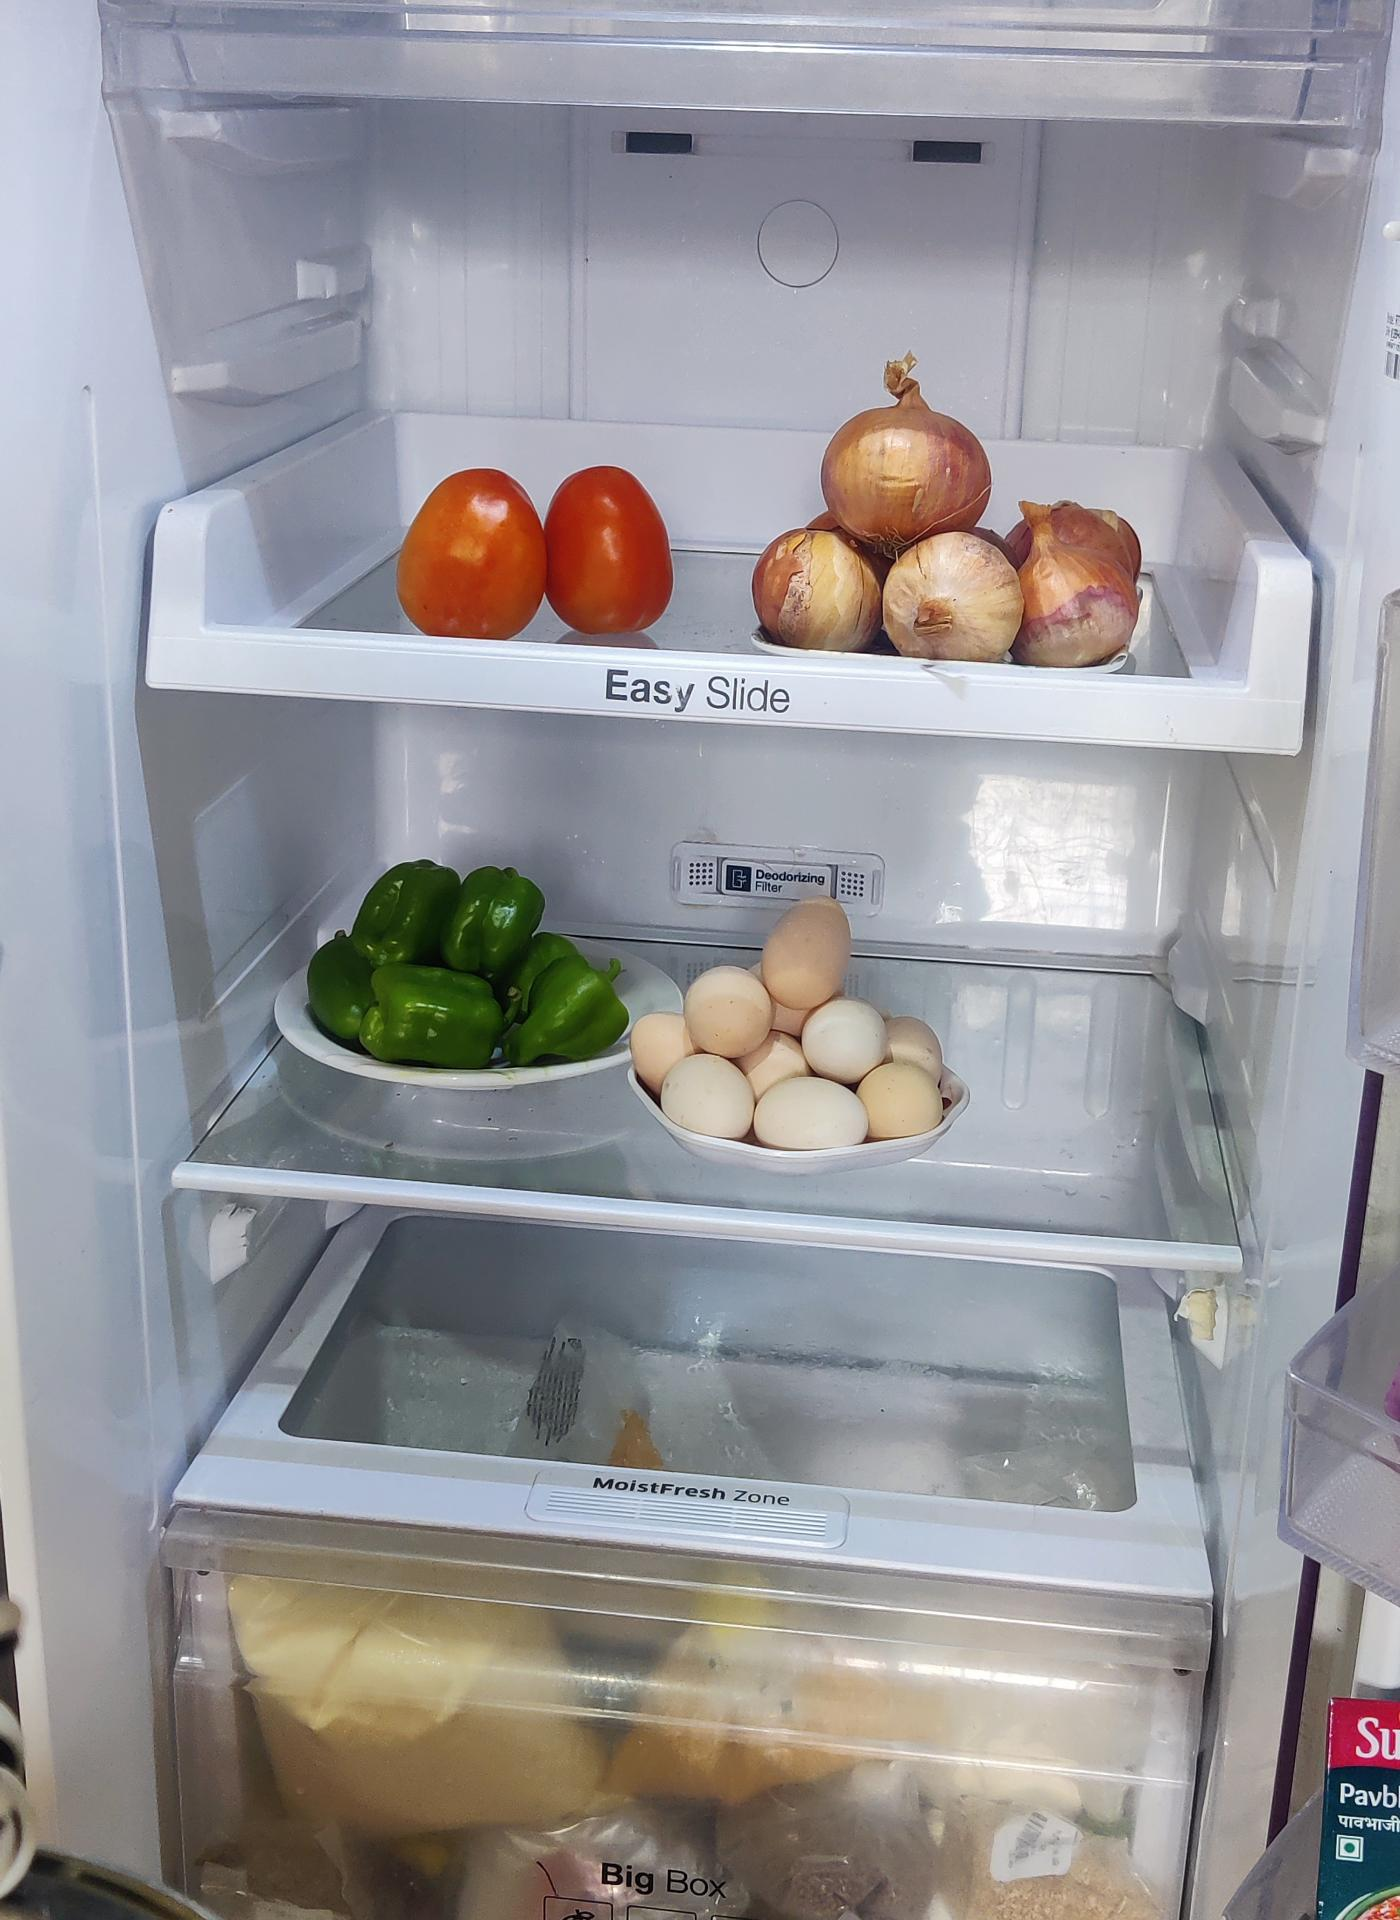bread: (1, 1456, 63, 1889)
capsicum: (307, 863, 632, 1078)
egg: (646, 917, 969, 1166)
onion: (745, 407, 1144, 675)
tomato: (395, 468, 675, 648)
